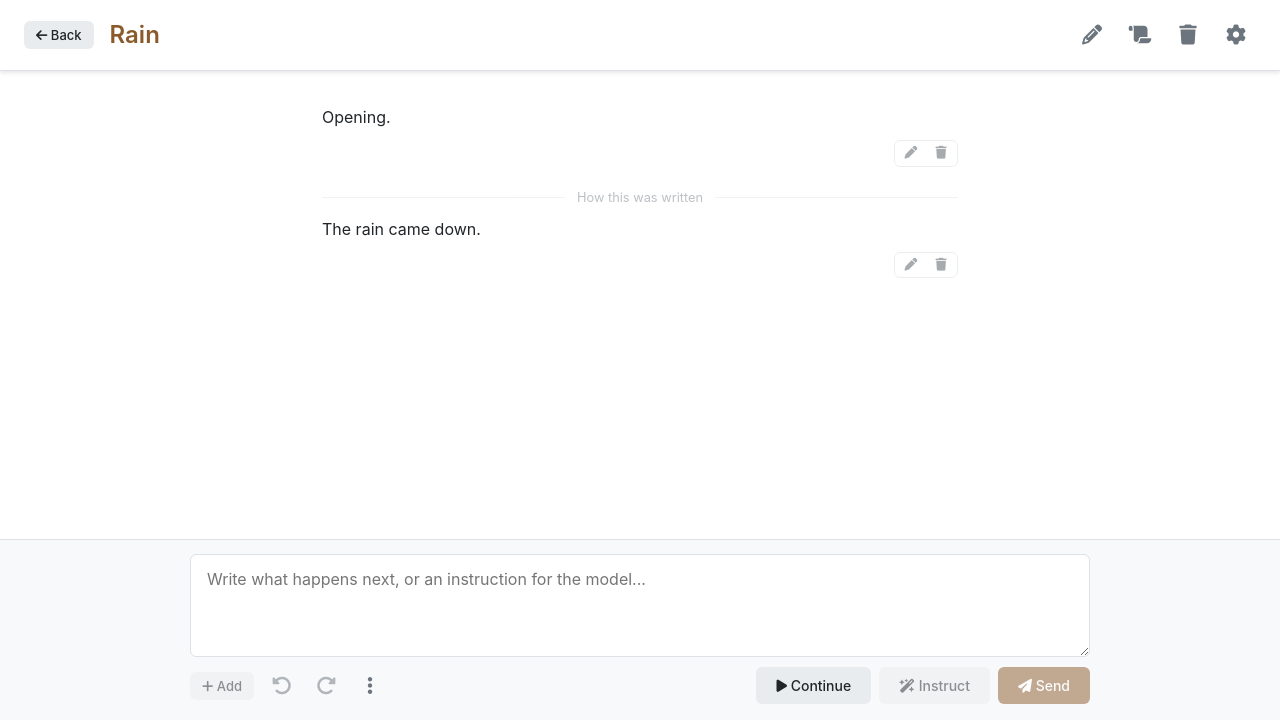
Test: StoryEditor in Enhanced Story Mode › says so when a passage's prompt is no longer kept
The width and height of the screenshot is (1280, 720).
Click the button with class "seam-toggle". click: (640, 198)
box: [322, 183, 958, 213]
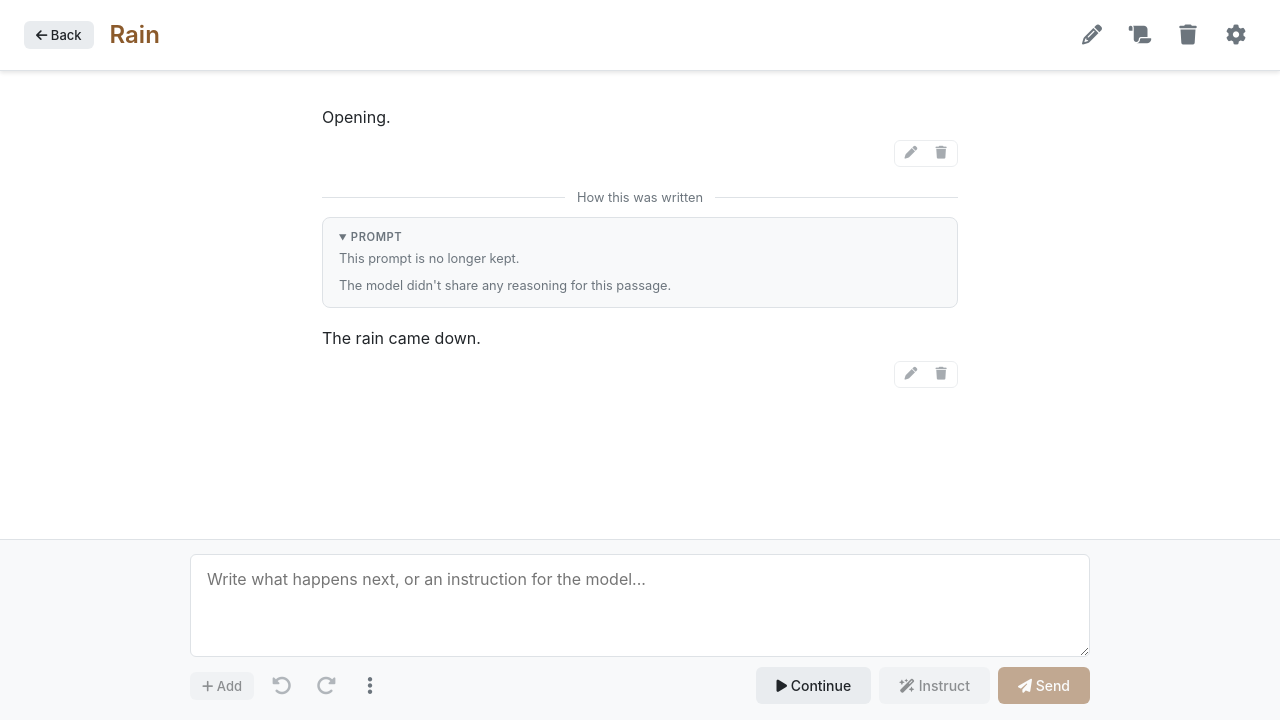
Now the element showing "Prompt This prompt is no longer kept." is shown, box [339, 230, 520, 266]
